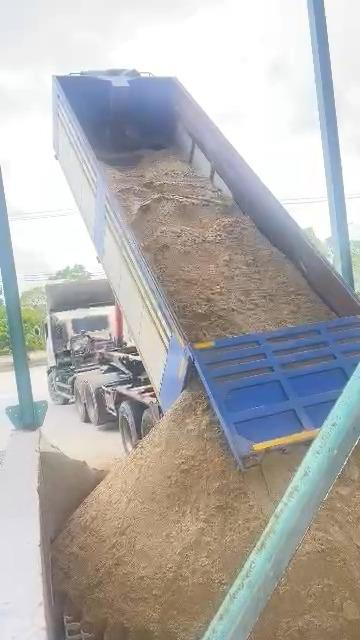sand: (54, 390, 305, 639), (108, 152, 333, 340), (254, 451, 360, 638), (39, 439, 106, 543)
